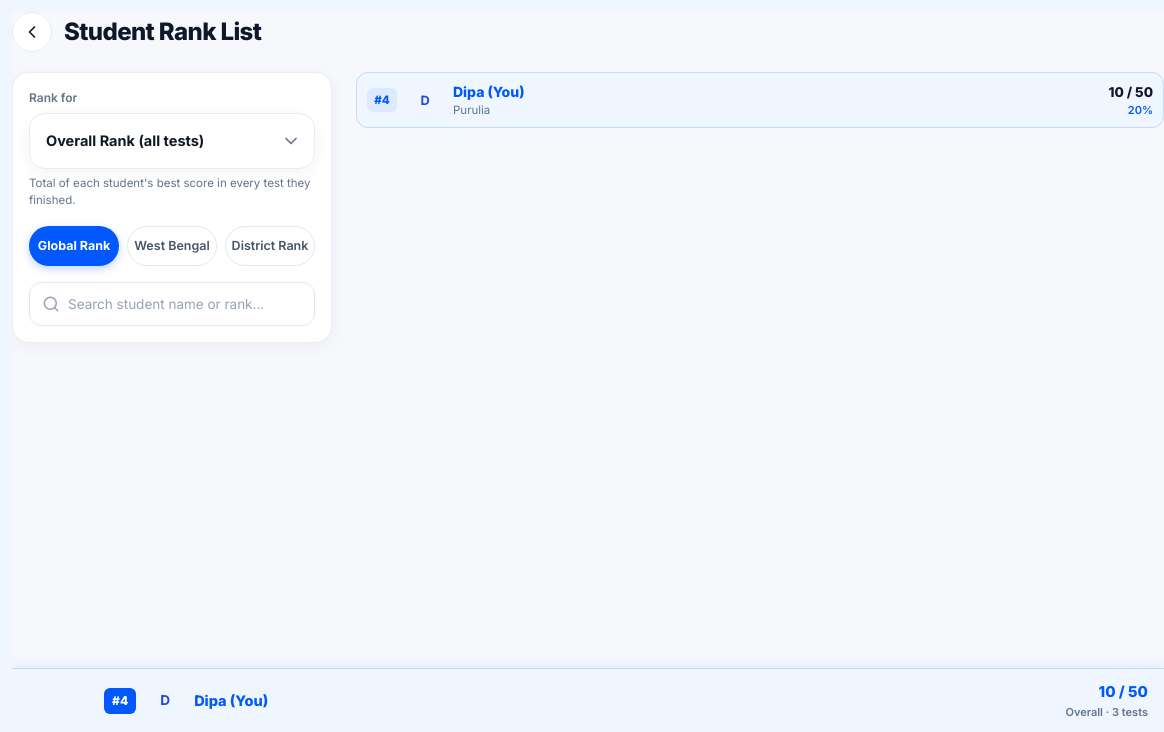
Scenario: RankListPage › opens on the overall rank and still lets the student pick a test
This screenshot has width=1164, height=732.
Check: the text "Overall · 3 tests" is shown, box [1065,704,1148,720]
Select "WBP Mock 1 — 1 Nov 2026 • 100 Marks" in the dropdown at (172,141), box [29,113,315,169]
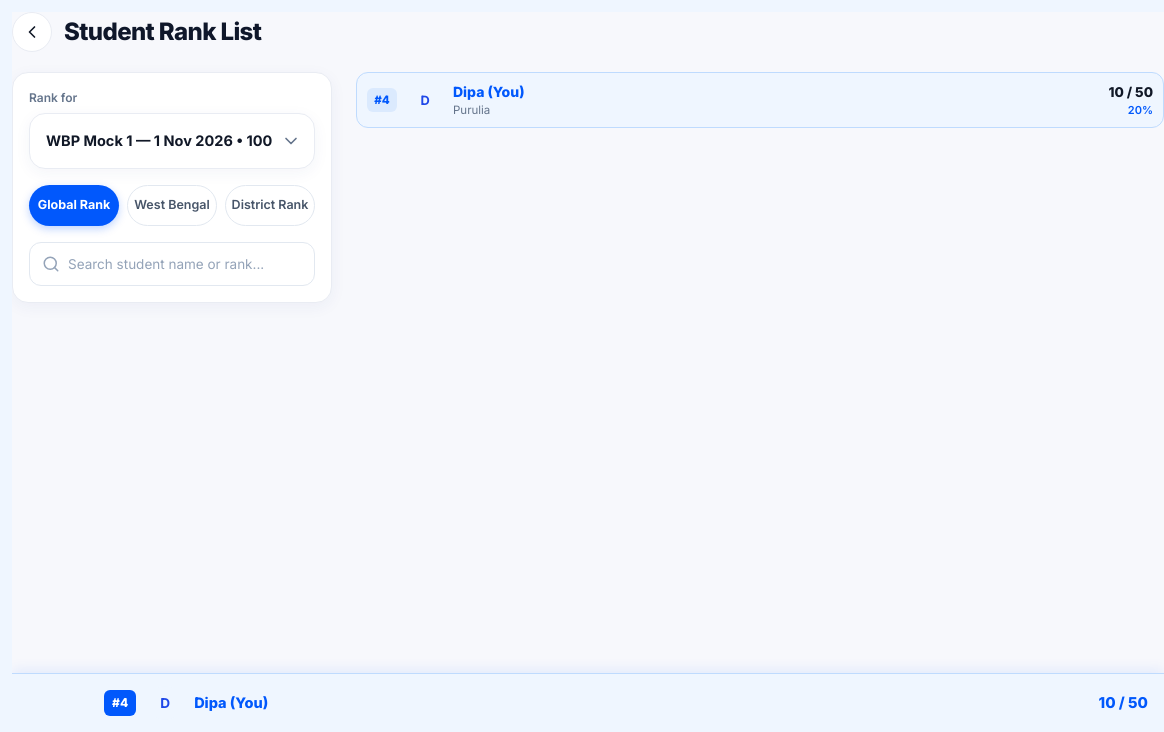
Check: the text "Overall ·" is gone
